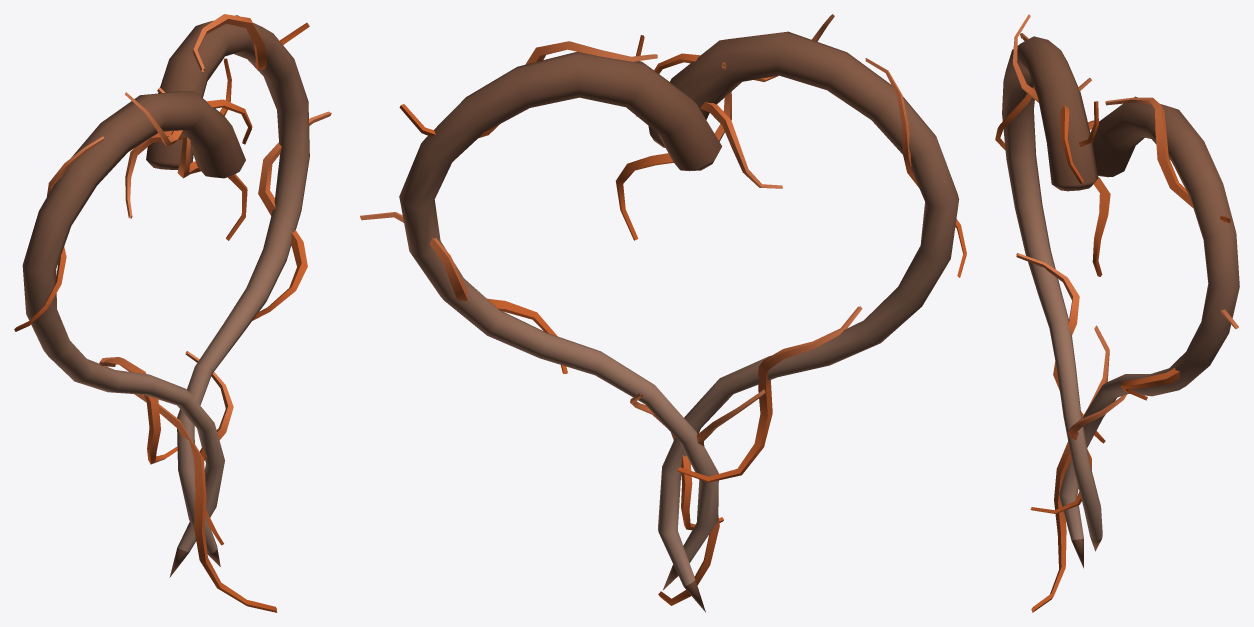
File: OBJ_HeartsRoot.fbx
The picture shows the model from 3 angles, left to right: view 1: azimuth 30°, elevation 25°; view 2: azimuth 150°, elevation 25°; view 3: azimuth 270°, elevation 25°; orthographic projection. The views are drawn at different scales.
Visible parts, largest first — view 1: OBJ_HeartsRoot; view 2: OBJ_HeartsRoot; view 3: OBJ_HeartsRoot.
Boxes of the visible parts, x1,y1,x2,y2 form: OBJ_HeartsRoot: (14, 14, 331, 612); OBJ_HeartsRoot: (360, 14, 966, 612); OBJ_HeartsRoot: (995, 14, 1239, 612).
Bounding box in the file's own units: 90.28 × 113 × 47.32.
